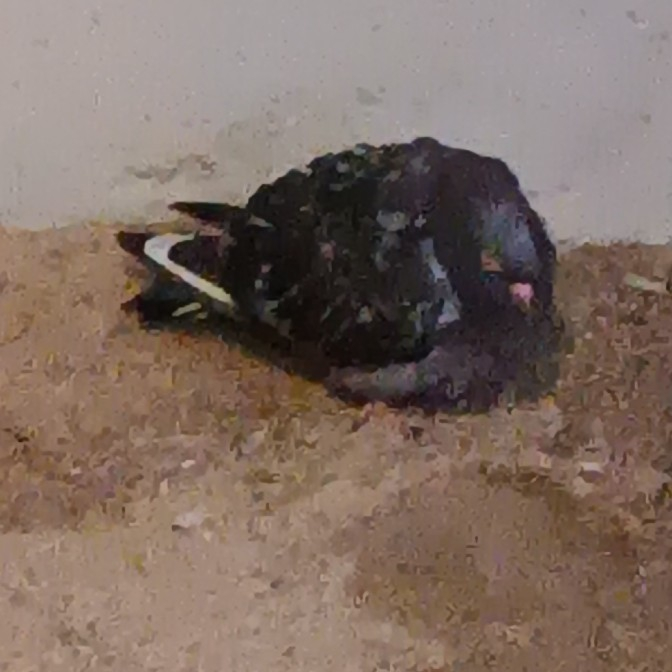Not_a_Chicken: (94, 114, 609, 426)
